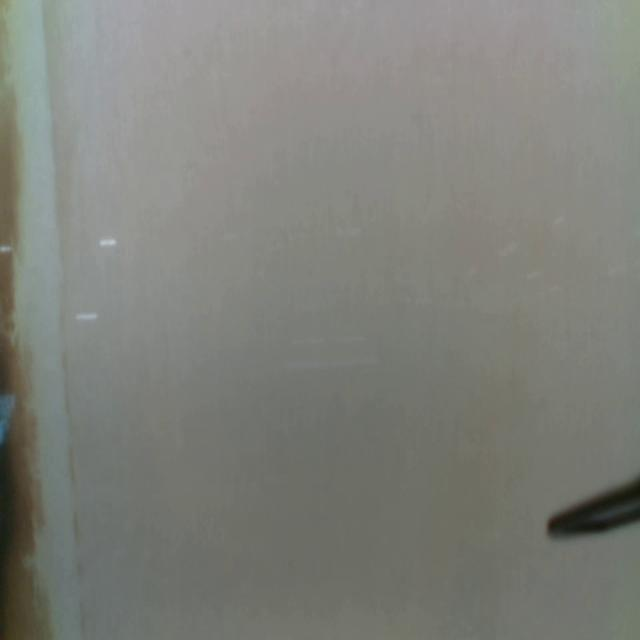color bleeding: (0, 0, 91, 639)
